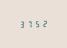five: (32, 20, 38, 27)
seven: (25, 20, 31, 28)
three: (18, 20, 24, 28)
two: (39, 19, 45, 27)
